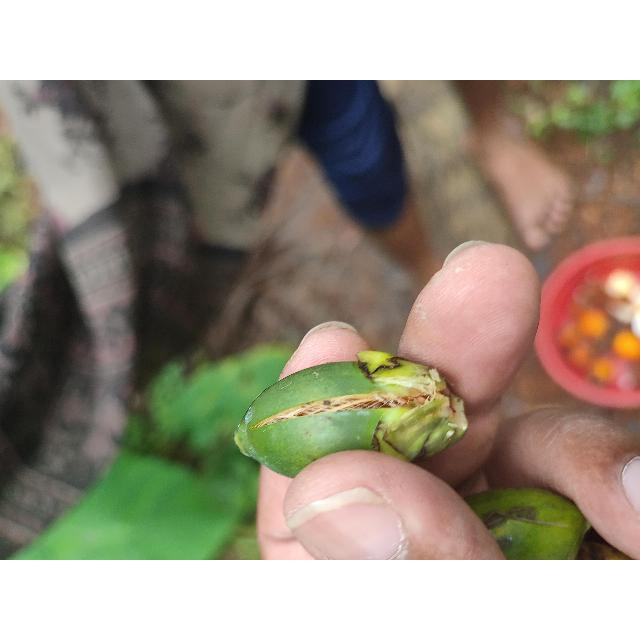damaged: (232, 350, 470, 481)
